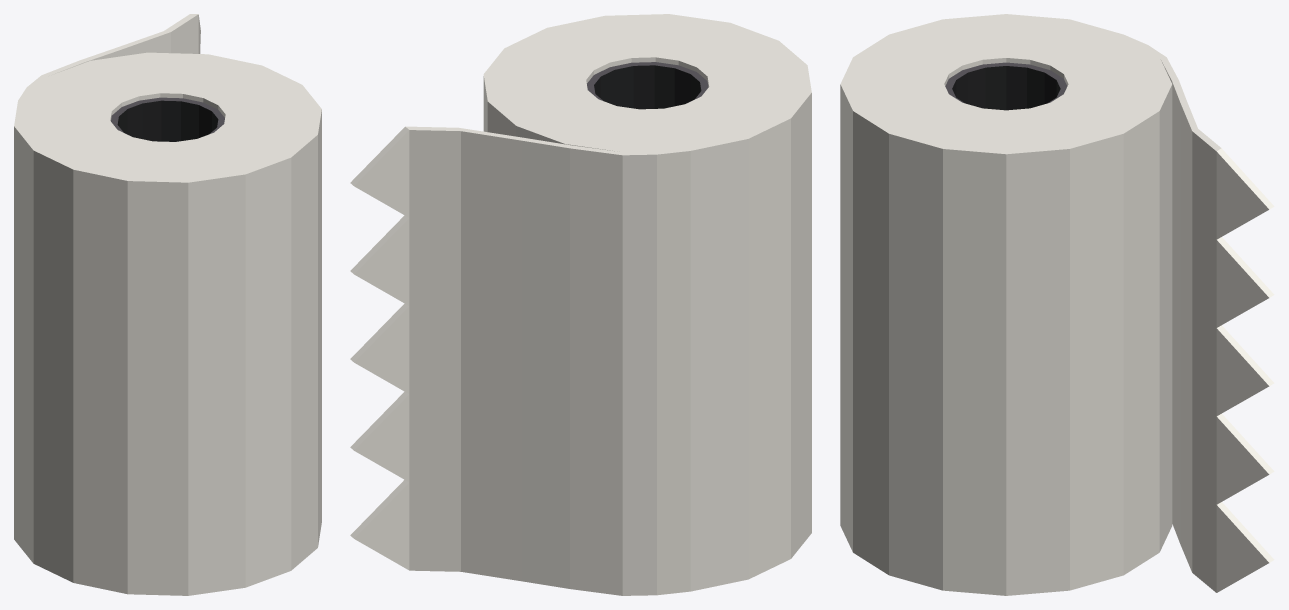
Rendered from Paper Roll.fbx.
The picture shows the model from 3 angles, left to right: view 1: azimuth 30°, elevation 25°; view 2: azimuth 150°, elevation 25°; view 3: azimuth 270°, elevation 25°; orthographic projection. The views are drawn at different scales.
Parts seen in each view (by area): view 1: paper_roll; view 2: paper_roll; view 3: paper_roll.
Part boxes in pixels (x1=…): paper_roll: x1=14, y1=14, x2=321, y2=595; paper_roll: x1=350, y1=14, x2=811, y2=595; paper_roll: x1=840, y1=14, x2=1274, y2=595.
Size of the model in its own units: 1.32 by 1.79 by 1.6.
